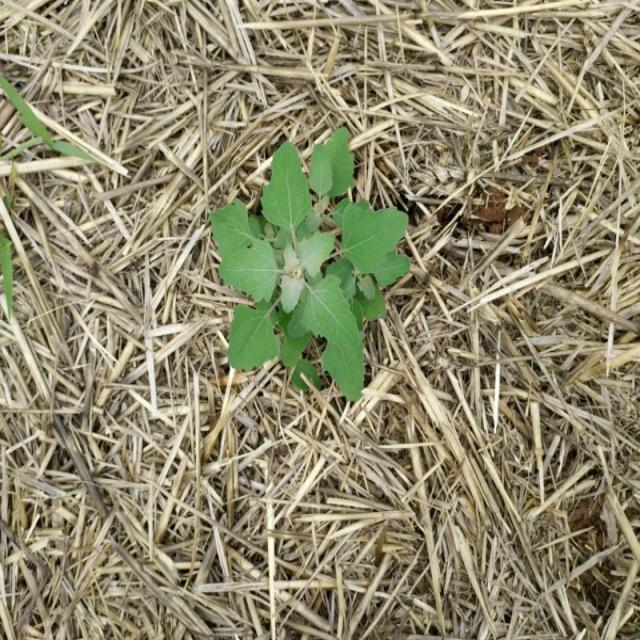ca: (212, 134, 413, 396)
